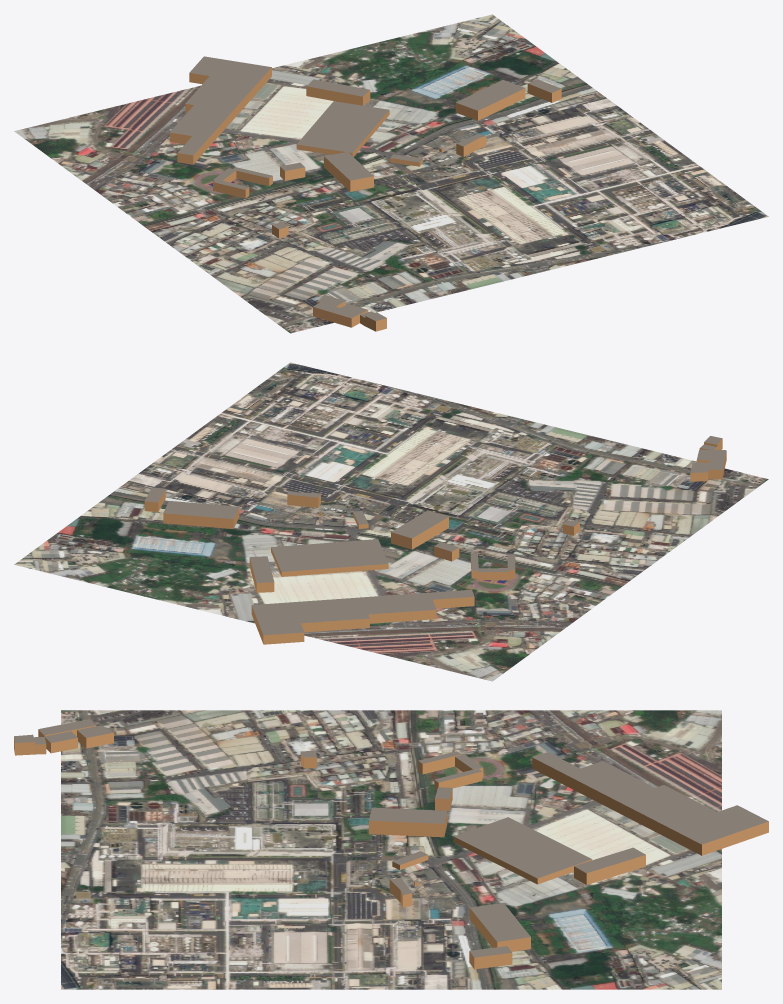
The picture shows the model from 3 angles, top to bottom: view 1: azimuth 30°, elevation 25°; view 2: azimuth 150°, elevation 25°; view 3: azimuth 270°, elevation 25°; orthographic projection. The views are drawn at different scales.
Visible parts, largest first — view 1: OSM_BaseMap, None_buildings; view 2: OSM_BaseMap, None_buildings; view 3: OSM_BaseMap, None_buildings.
Part boxes in pixels (x1,y1,x2,y2): OSM_BaseMap: (14, 14, 768, 333); None_buildings: (169, 56, 561, 331); OSM_BaseMap: (14, 362, 768, 681); None_buildings: (144, 436, 726, 644); OSM_BaseMap: (61, 710, 721, 989); None_buildings: (14, 719, 768, 969).
Bounding box in the file's own units: 793 × 17.9 × 905.
Materials: 3 (1 with a texture image).
